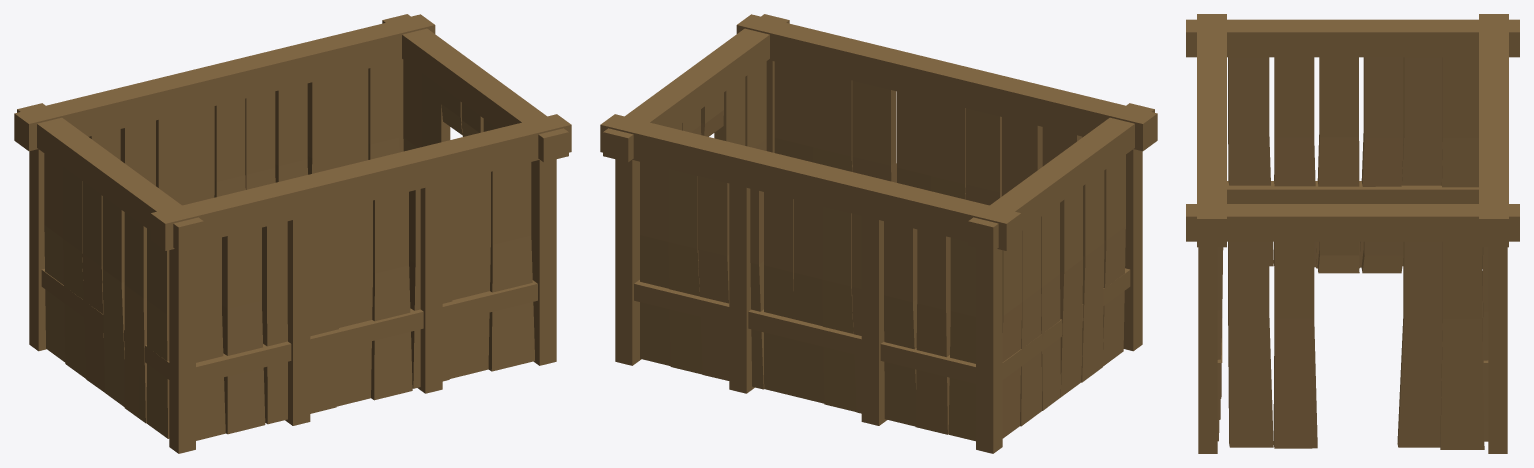
The model's file is woodenhut_walls.glb.
3 renders of one model, left to right at view 1: azimuth 30°, elevation 25°; view 2: azimuth 150°, elevation 25°; view 3: azimuth 270°, elevation 25°, orthographic. The views are drawn at different scales.
Parts seen in each view (by area): view 1: Houses_FirstAge_3_Level3; view 2: Houses_FirstAge_3_Level3; view 3: Houses_FirstAge_3_Level3.
Boxes of the visible parts, x1,y1,x2,y2 form: Houses_FirstAge_3_Level3: (14,14,571,453); Houses_FirstAge_3_Level3: (600,14,1157,453); Houses_FirstAge_3_Level3: (1186,14,1519,453).
Size of the model in its own units: 4.52 by 2.49 by 3.11.
